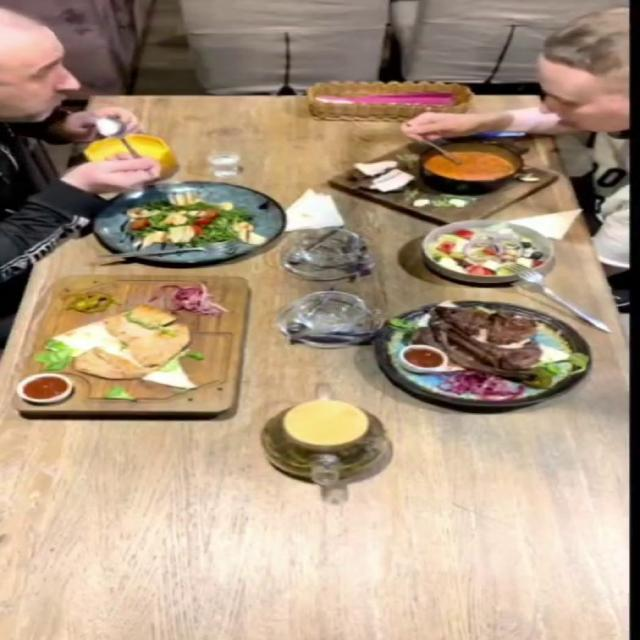meat: (13, 276, 249, 418), (372, 299, 592, 406)
salad: (90, 180, 284, 264), (422, 219, 558, 284)
soup: (327, 137, 561, 226), (82, 133, 178, 180)
tea: (258, 390, 397, 499)
